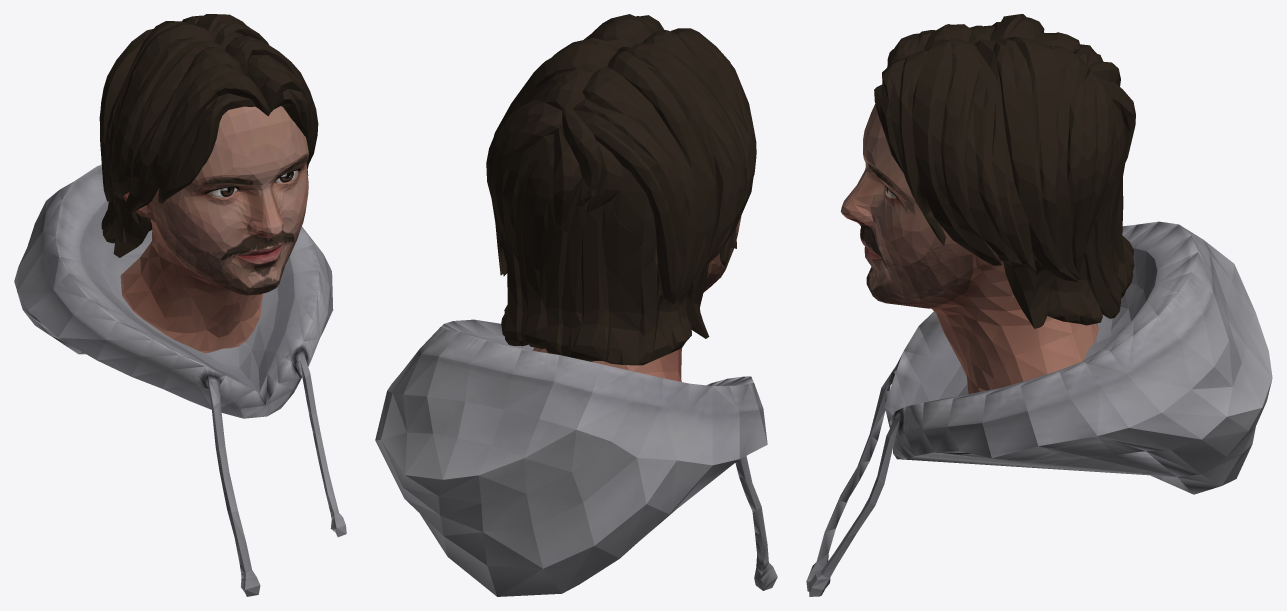
File: 3dportrait.glb
The picture shows the model from 3 angles, left to right: view 1: azimuth 30°, elevation 25°; view 2: azimuth 150°, elevation 25°; view 3: azimuth 270°, elevation 25°; orthographic projection. The views are drawn at different scales.
Visible parts, largest first — view 1: Wolf3D_Outfit_Top; view 2: Wolf3D_Outfit_Top; view 3: Wolf3D_Outfit_Top.
Part boxes in pixels (x1,y1,x2,y2): Wolf3D_Outfit_Top: (14,14,346,596); Wolf3D_Outfit_Top: (375,14,777,596); Wolf3D_Outfit_Top: (806,14,1272,596).
Bounding box in the file's own units: 0.3015 × 0.5165 × 0.3737.
4 materials, 4 textured.
